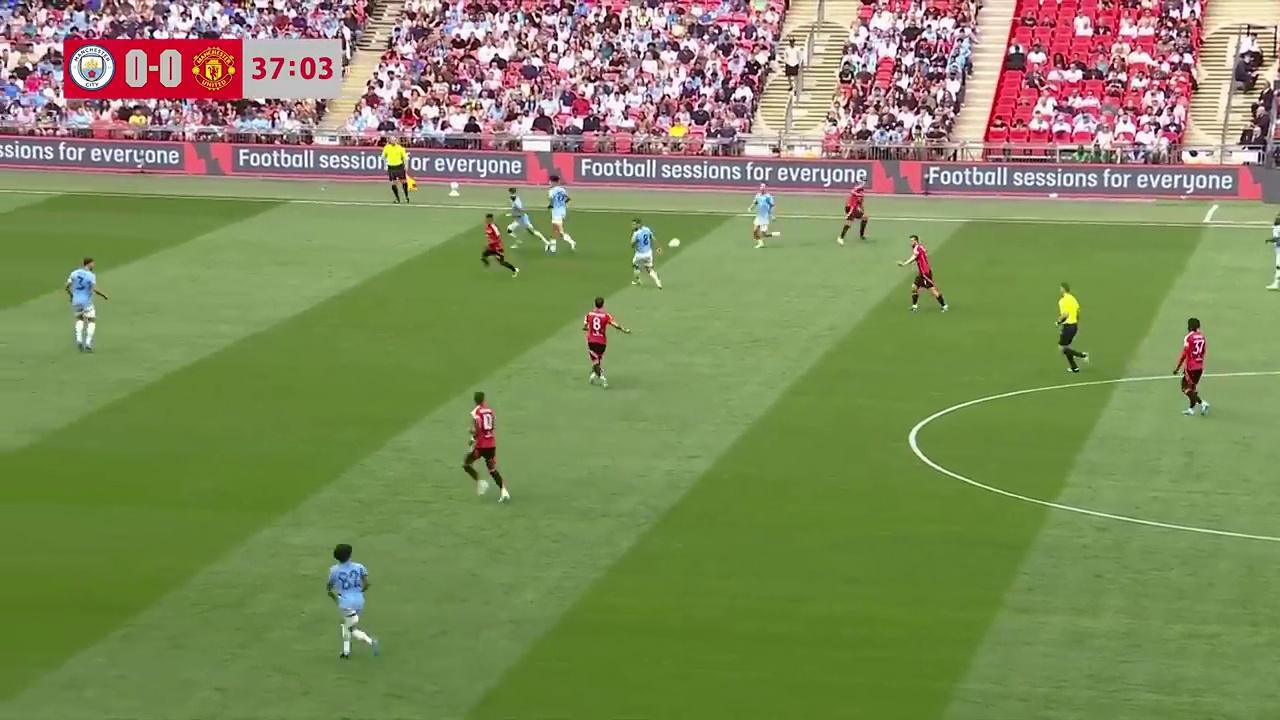ball: (667, 235, 681, 249)
player: (326, 543, 380, 660), (462, 391, 510, 502), (581, 296, 631, 387), (65, 254, 109, 352), (897, 236, 948, 313), (1173, 317, 1208, 416), (479, 214, 519, 277), (629, 218, 663, 289), (543, 182, 576, 253), (836, 185, 867, 244), (506, 188, 540, 240), (750, 188, 777, 247), (1263, 213, 1280, 290)
referee: (1054, 283, 1083, 372), (383, 141, 415, 205)
